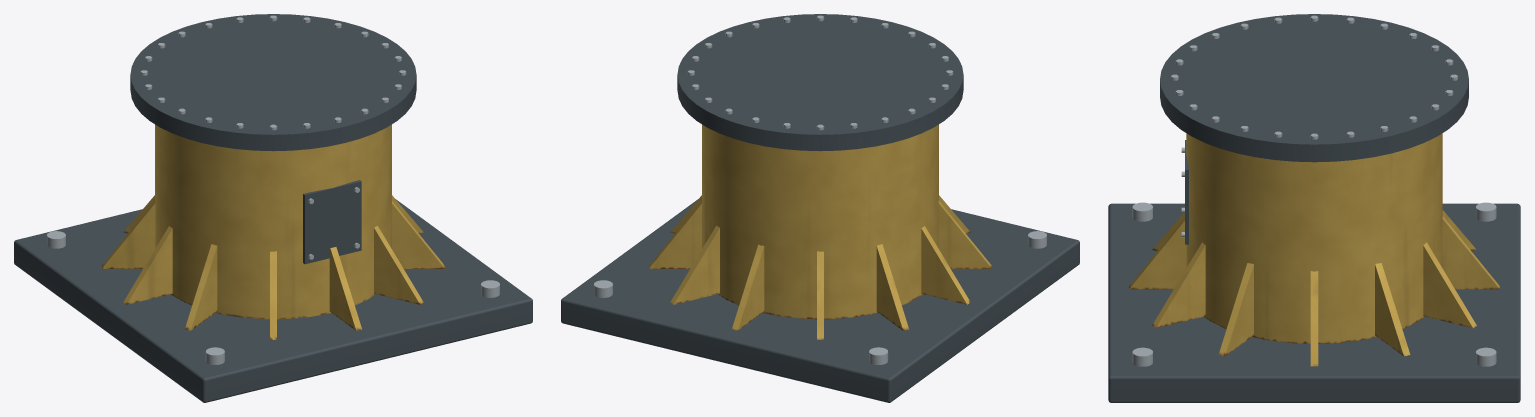
The model's file is crane_pedestal.glb.
3 renders of one model, left to right at view 1: azimuth 30°, elevation 25°; view 2: azimuth 150°, elevation 25°; view 3: azimuth 270°, elevation 25°, orthographic. The views are drawn at different scales.
Parts seen in each view (by area): view 1: crane_pedestal; view 2: crane_pedestal; view 3: crane_pedestal.
Part boxes in pixels (x1,y1,x2,y2): crane_pedestal: (14,14,532,402); crane_pedestal: (561,14,1079,402); crane_pedestal: (1108,14,1520,402).
Bounding box in the file's own units: 3.6 × 2.32 × 3.6.
Materials: 3 (1 with a texture image).
